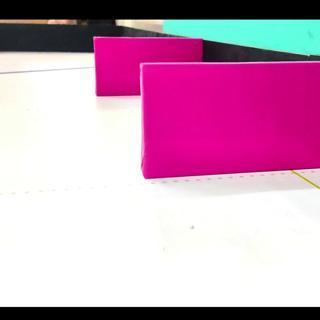xparking: (144, 62, 320, 178), (97, 37, 139, 98)
